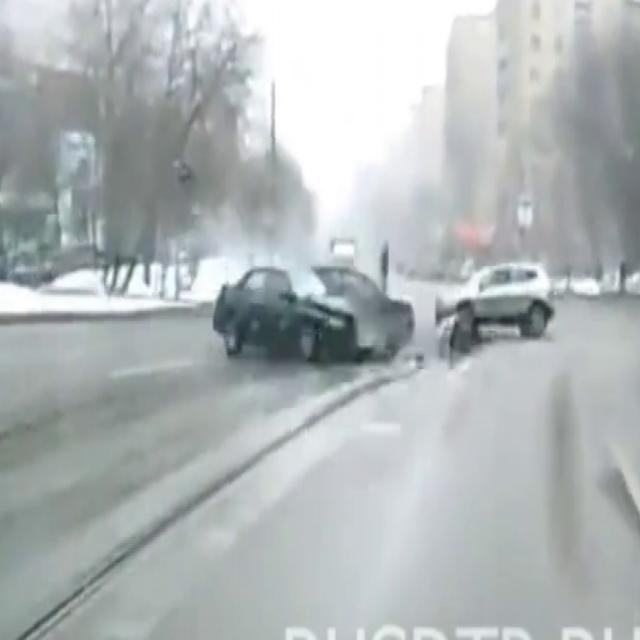accident: (214, 228, 426, 374)
